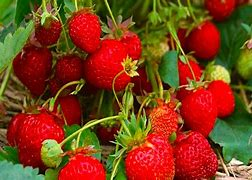Fresa: (15, 106, 66, 170), (125, 131, 175, 180), (13, 42, 54, 101), (177, 130, 221, 180), (182, 84, 217, 141), (65, 9, 105, 54), (104, 24, 143, 64), (33, 13, 65, 49)
